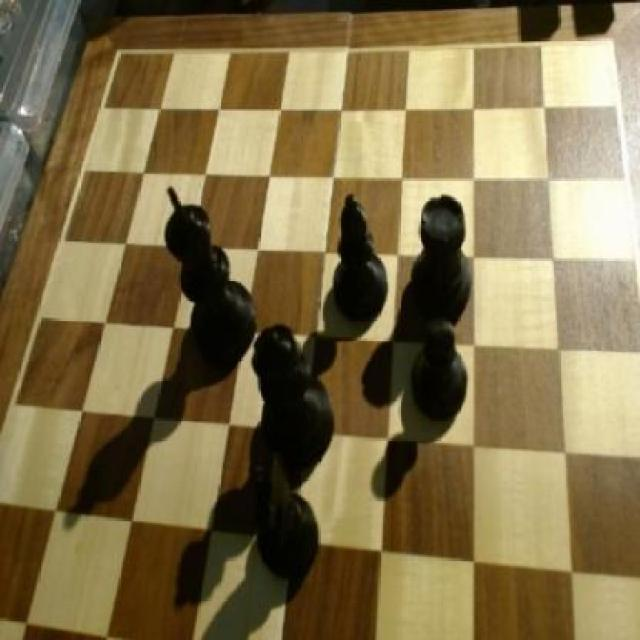bishop: (324, 189, 396, 326)
black-bishop: (155, 177, 258, 358)
black-king: (252, 441, 326, 587)
black-knight: (411, 314, 475, 426)
black-pawn: (248, 324, 336, 464)
black-queen: (406, 188, 477, 328)
